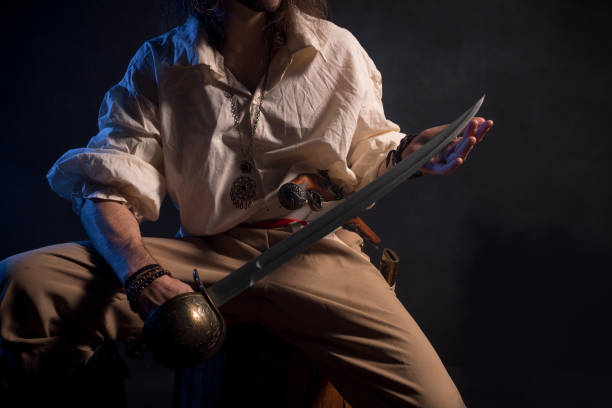knife: (206, 95, 488, 307)
